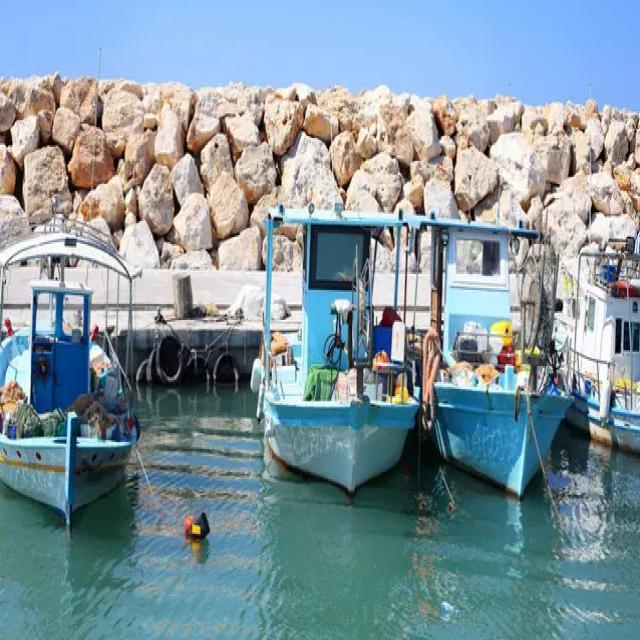fishing boat: (264, 198, 418, 500), (0, 210, 145, 523), (426, 204, 570, 501), (565, 223, 640, 467)
